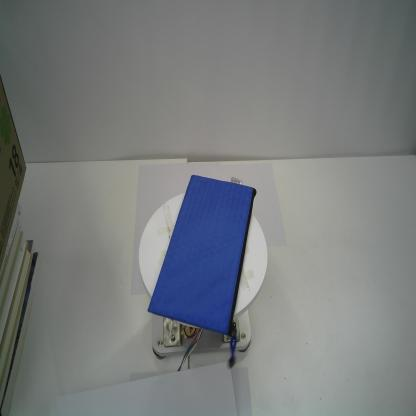Stationery: (148, 174, 258, 370)
